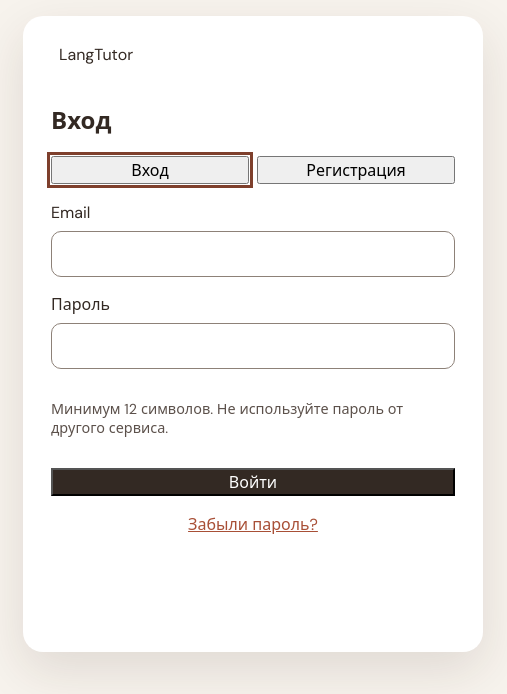
Test: AuthPage › offers an enumeration-safe password recovery request
Click the button "Забыли пароль?" at {"x": 253, "y": 524}, box [51,512,455,536]
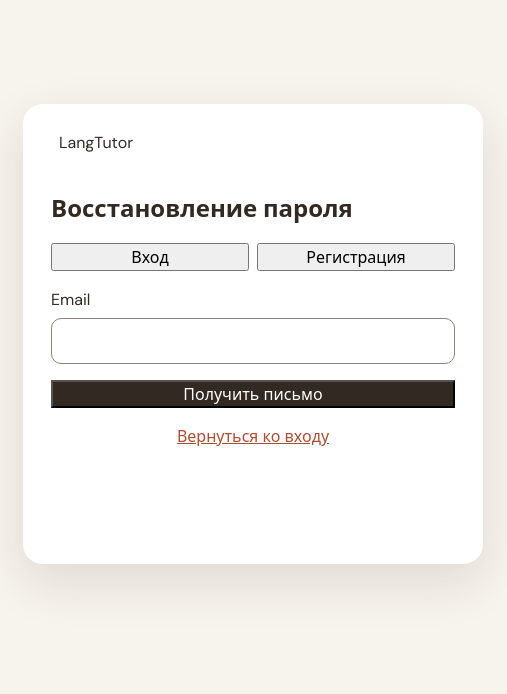
Type "learner@example.test" into the field labelled "Email" at {"x": 253, "y": 342}, box [51,318,455,364]
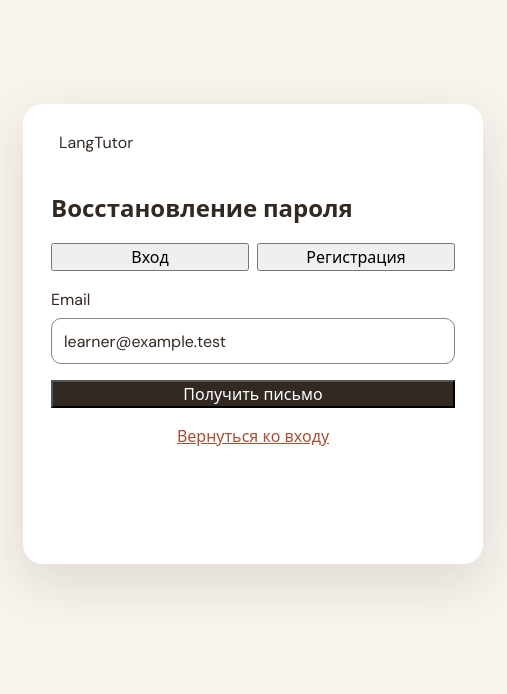
Click the button "Получить письмо" at {"x": 253, "y": 394}, box [51,380,455,408]
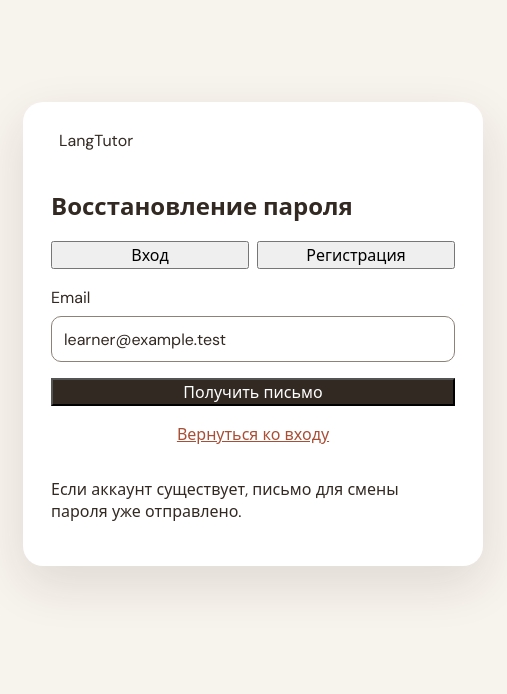
expect the message shows "Если аккаунт существует": met, box [51,480,399,522]
